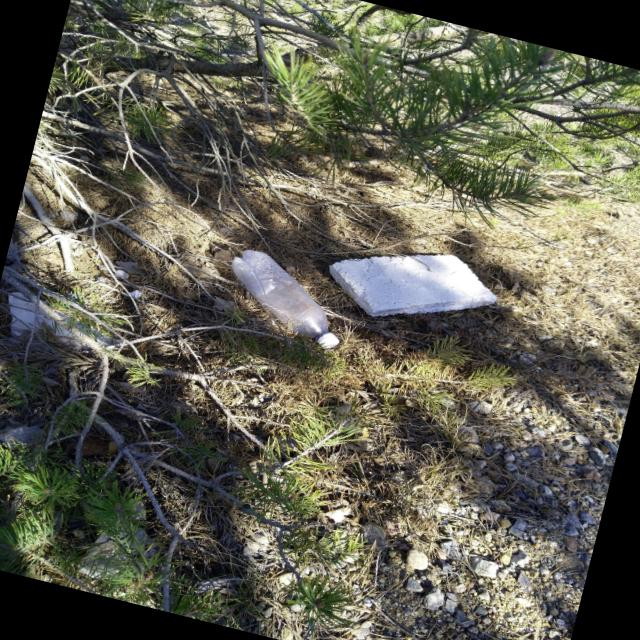less trash: (329, 254, 497, 317), (231, 249, 336, 348), (401, 281, 403, 284)
